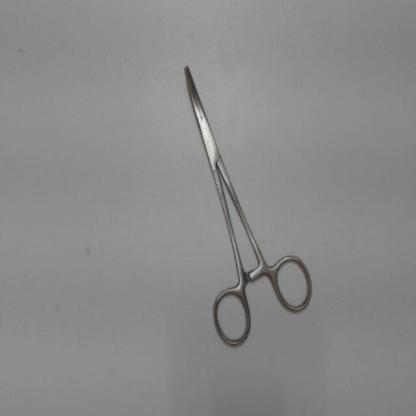Crile Artery Forceps: (178, 54, 316, 355)
